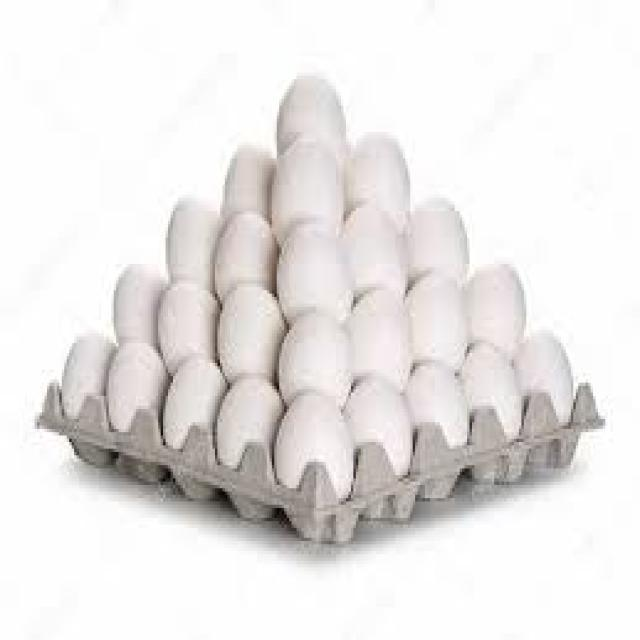White Egg: (340, 361, 413, 477), (213, 280, 296, 382), (271, 64, 356, 158), (279, 215, 351, 322), (286, 386, 352, 497), (154, 179, 223, 285), (346, 278, 416, 377), (349, 190, 411, 296), (404, 266, 471, 364), (276, 133, 348, 224), (103, 334, 168, 433), (519, 313, 578, 412), (404, 178, 464, 275), (464, 263, 528, 348), (60, 329, 117, 422), (284, 318, 347, 402), (211, 377, 271, 465), (160, 272, 214, 369), (212, 213, 276, 294), (162, 354, 220, 439), (413, 354, 474, 434), (217, 136, 270, 222), (469, 310, 508, 424), (111, 261, 170, 335), (358, 129, 408, 211)
